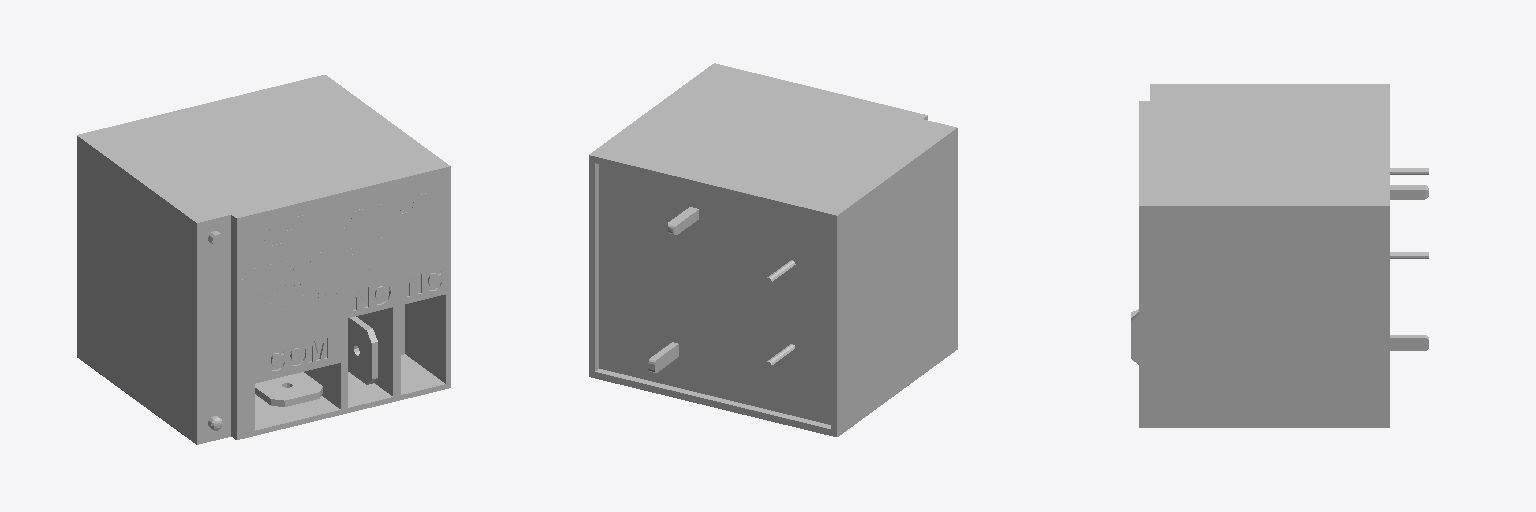
File: Relay -SLC-12VDC-SL-A.obj
3 views of the same model, side by side, from view 1: azimuth 30°, elevation 25°; view 2: azimuth 150°, elevation 25°; view 3: azimuth 270°, elevation 25° (orthographic).
Visible parts, largest first — view 1: Solid1; view 2: Solid1; view 3: Solid1.
Boxes of the visible parts, box(x1,y1,x2,y2) form: Solid1: box(77, 75, 450, 444); Solid1: box(589, 63, 957, 436); Solid1: box(1131, 84, 1428, 427).
Bounding box in the file's own units: 31.62 × 26.95 × 32.84.